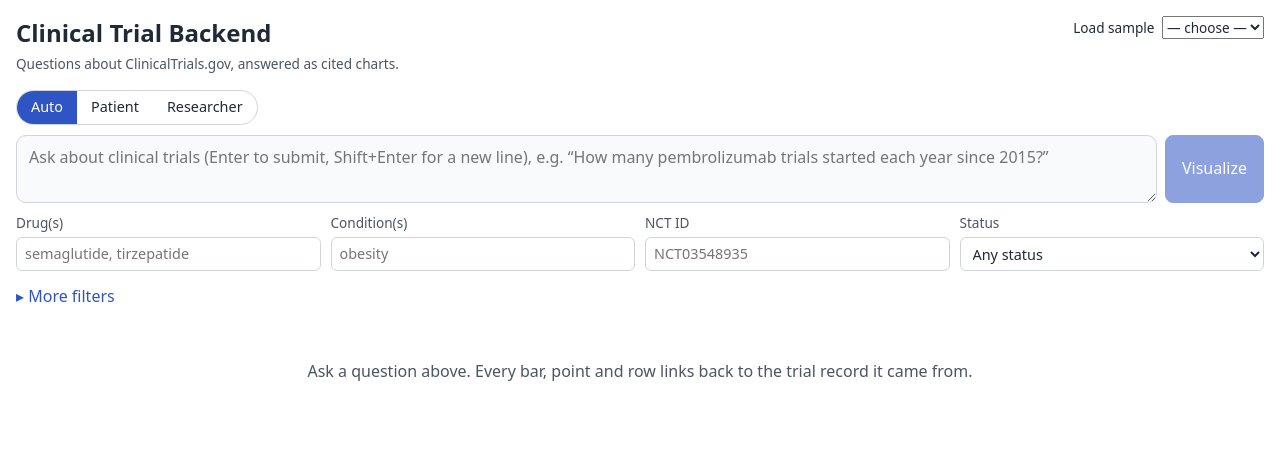
Test: App › shows 422 validation details
Replace the text in the text box named "Question" with "bad" at point(586, 169), box [16,135,1157,203]
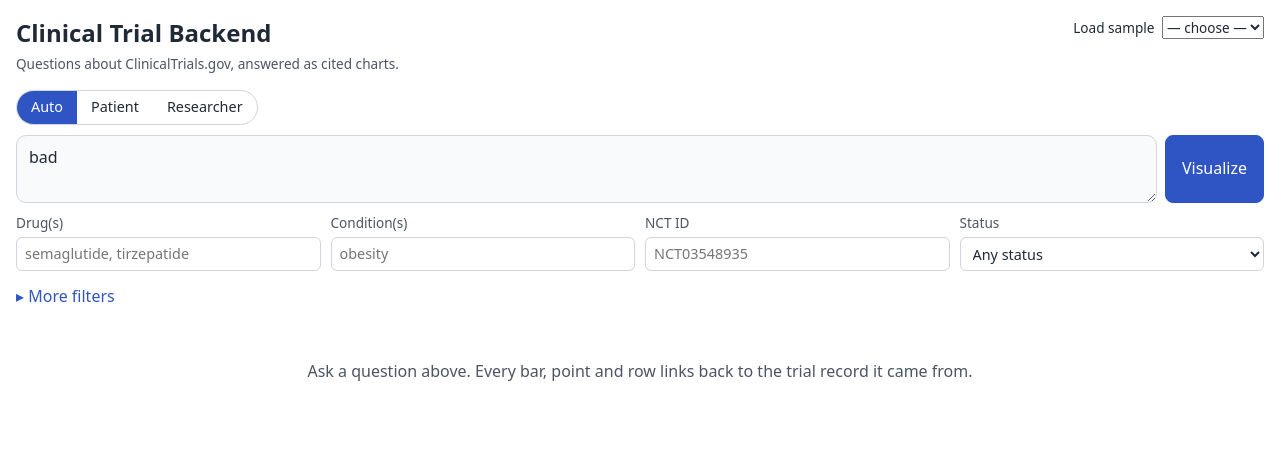
Click the button "Visualize" at point(1214, 169), box [1165,135,1264,203]
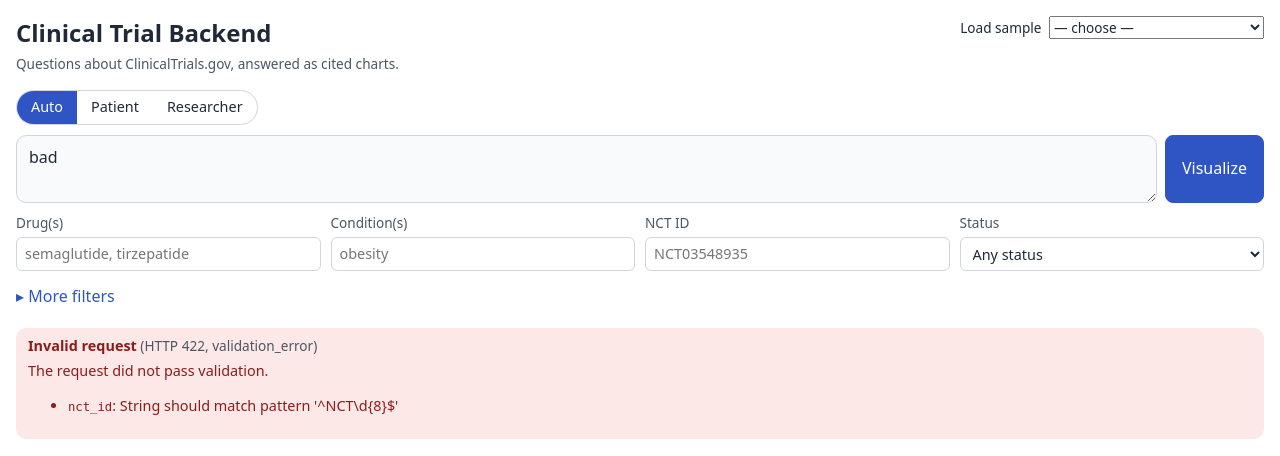
Check: the text "Invalid request" is shown, box [28,336,137,355]
Check: the text "nct_id" is shown, box [68,400,112,414]
